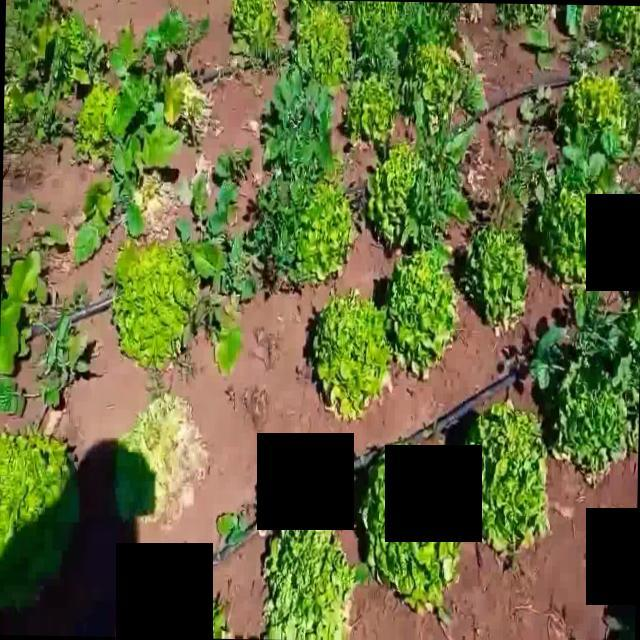Lettuce: (0, 422, 86, 619), (362, 452, 462, 614), (469, 400, 551, 554), (114, 395, 206, 530), (111, 240, 198, 370), (259, 529, 359, 640), (535, 168, 617, 291), (311, 295, 388, 420), (385, 250, 459, 368), (366, 145, 436, 250), (462, 224, 531, 326), (552, 385, 630, 475), (294, 177, 354, 287), (566, 70, 638, 154), (408, 43, 464, 114), (342, 73, 398, 143), (78, 82, 122, 166), (295, 26, 351, 88), (225, 0, 280, 61), (343, 0, 402, 38), (492, 1, 546, 28)
